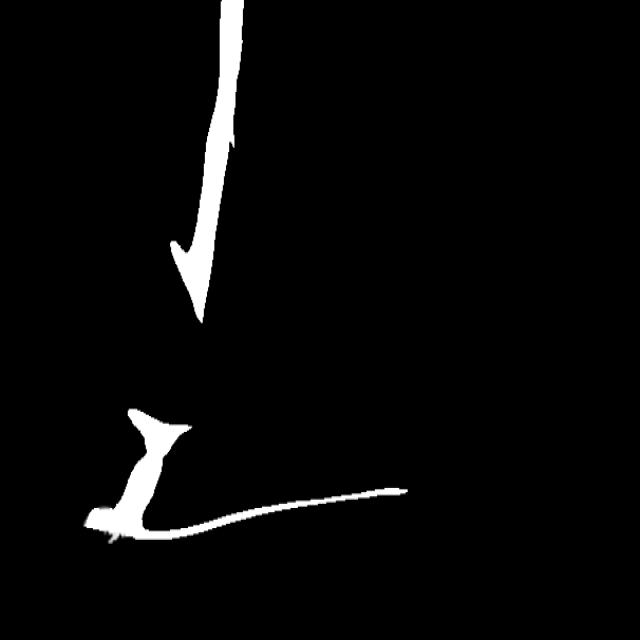sup_pli: (103, 526, 128, 549)
